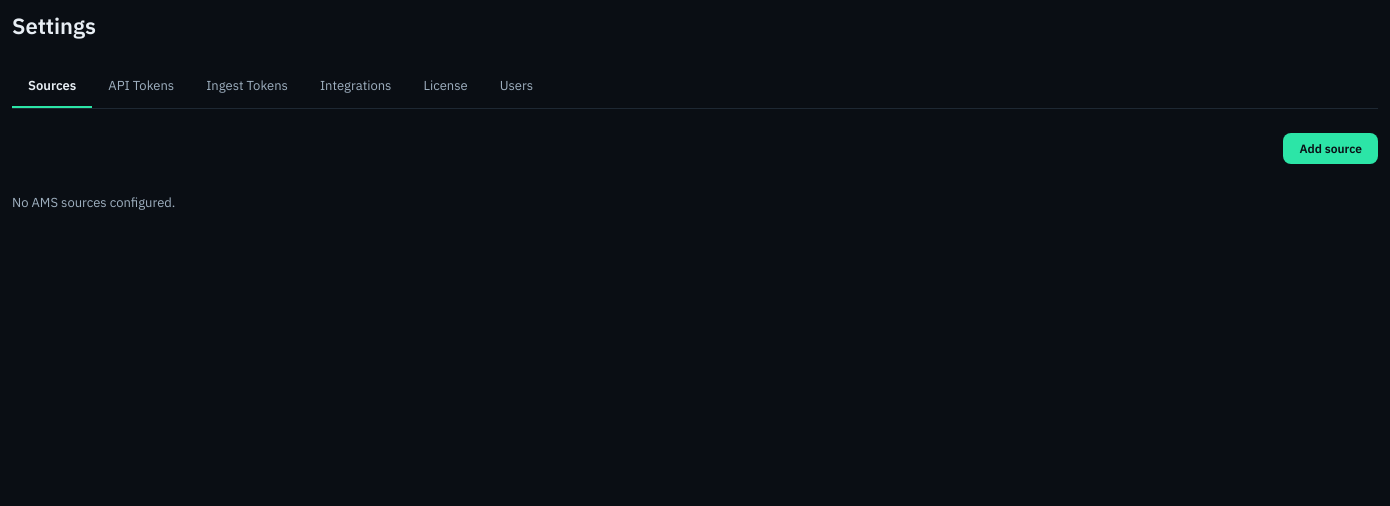
SettingsPage — API token creation persistent panel › (i) raw token is visible in the persistent panel after creation
Click the tab "API Tokens": (141, 86) [92,64,190,108]
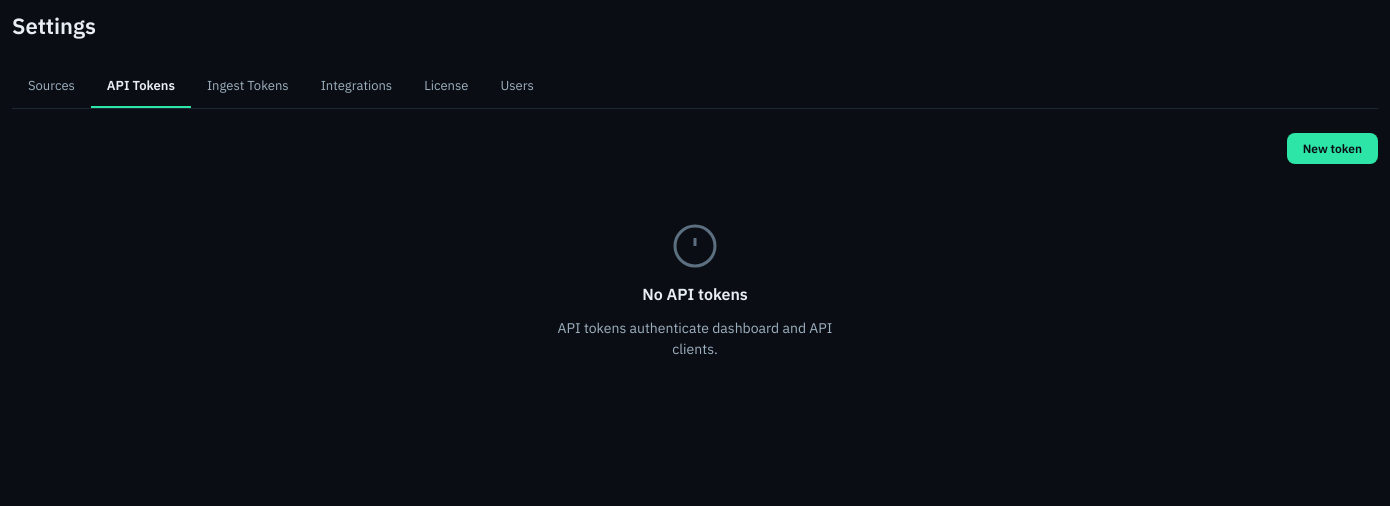
Click the button "New token": (1332, 148) [1287,133,1378,164]
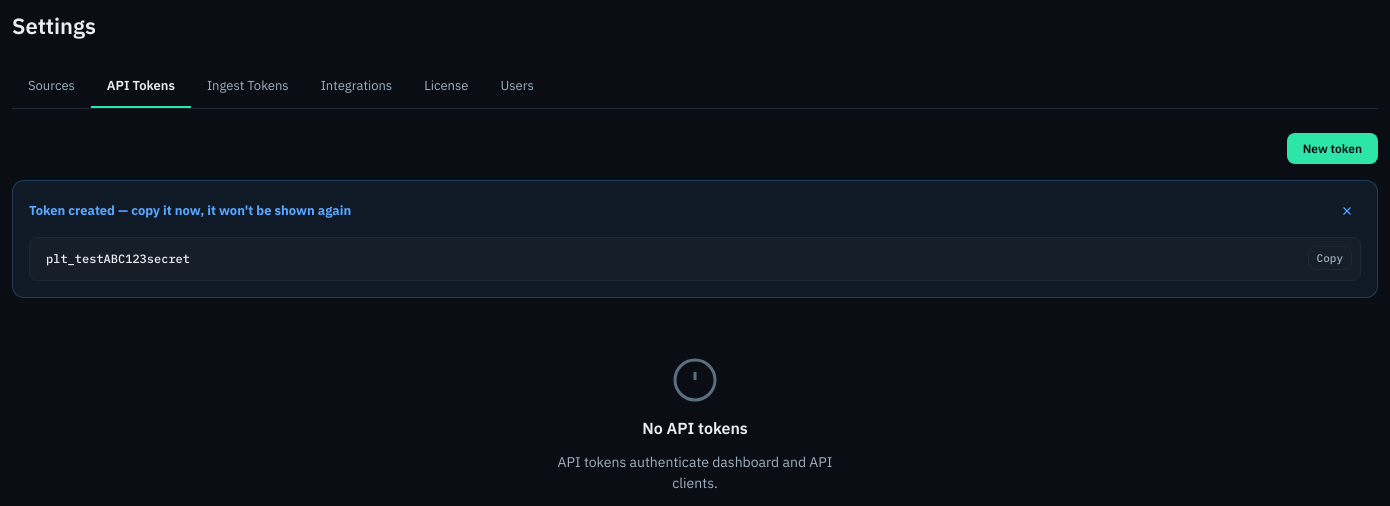
Result: the text "plt_testABC123secret" is shown at [46,251,190,266]
